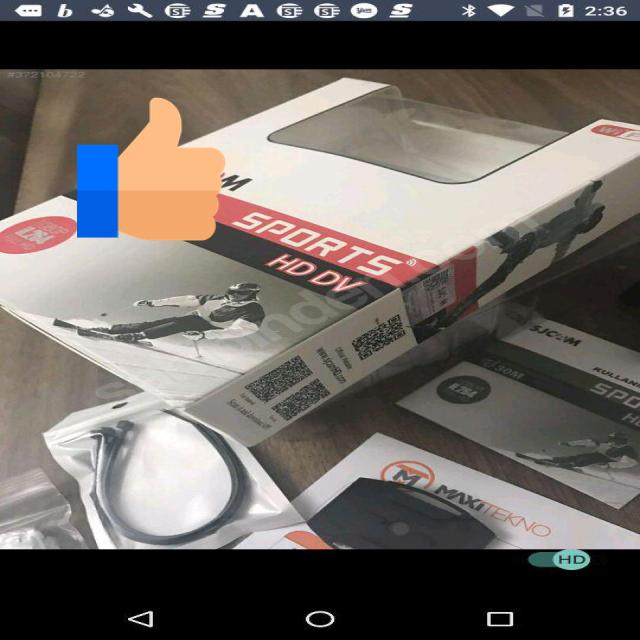privacy zuckering: (77, 94, 225, 244)
